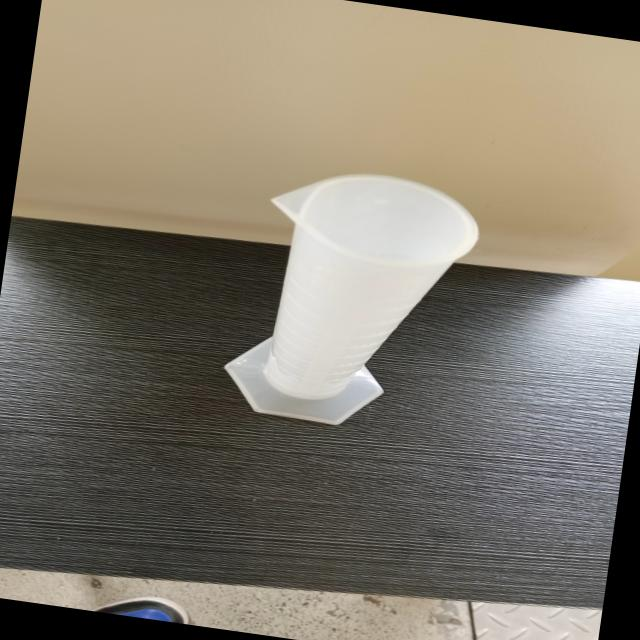graduated_cylinder: (210, 151, 492, 447)
